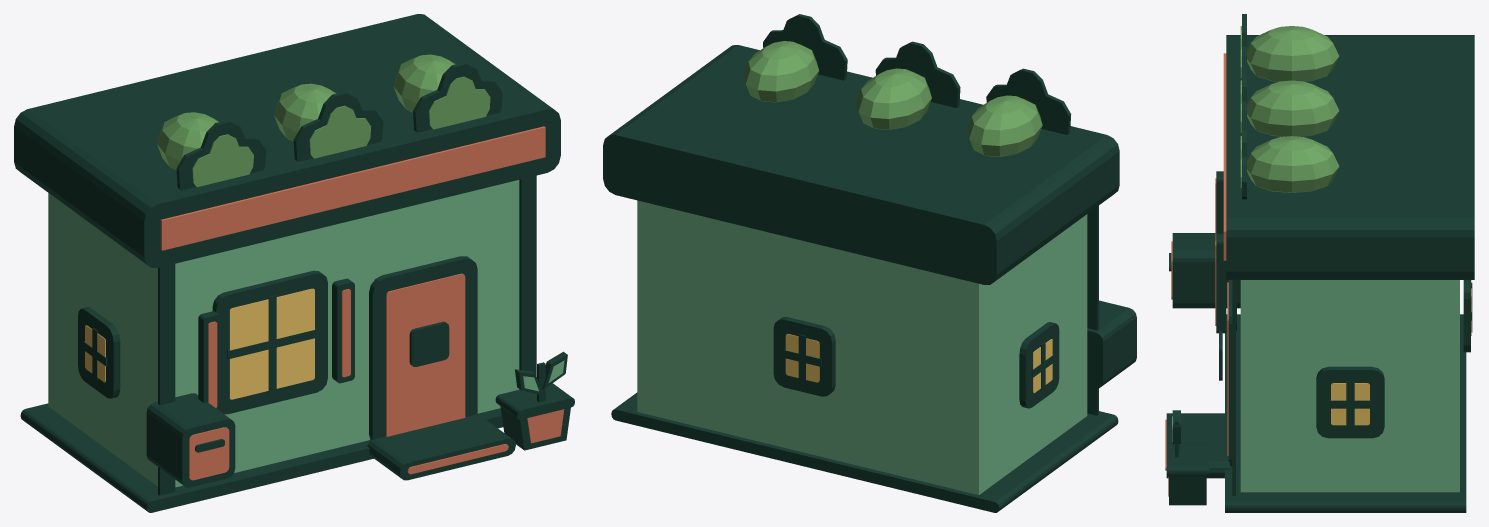
3 views of the same model, side by side, from view 1: azimuth 30°, elevation 25°; view 2: azimuth 150°, elevation 25°; view 3: azimuth 270°, elevation 25° (orthographic). The views are drawn at different scales.
Parts seen in each view (by area): view 1: Rent Free house; view 2: Rent Free house; view 3: Rent Free house.
Boxes of the visible parts, box(x1,y1,x2,y2) form: Rent Free house: box(14, 14, 574, 512); Rent Free house: box(603, 14, 1136, 512); Rent Free house: box(1165, 14, 1474, 512).
Size of the model in its own units: 1.08 by 0.8971 by 0.7257.
